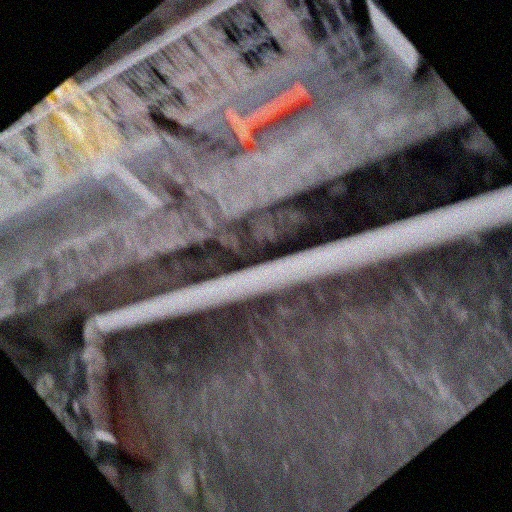mallet: (218, 62, 317, 156)
